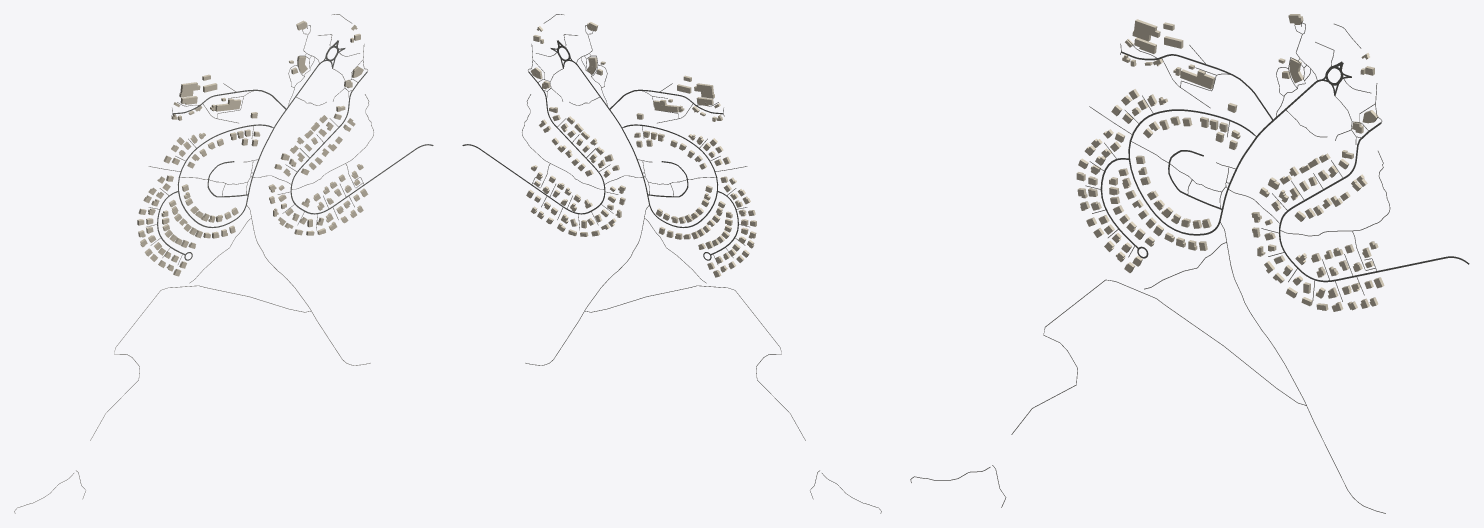
Rendered from historic-palestine-10_33_3521_3275.glb.
The picture shows the model from 3 angles, left to right: view 1: azimuth 30°, elevation 25°; view 2: azimuth 150°, elevation 25°; view 3: azimuth 330°, elevation 25°; orthographic projection. The views are drawn at different scales.
Parts seen in each view (by area): view 1: Road .055, Road; view 2: Road .055, Road; view 3: Road .055, Road.
Part boxes in pixels (bbox=[...]): Road .055: bbox=[177, 124, 274, 227]; Road: bbox=[290, 97, 433, 214]; Road .055: bbox=[621, 124, 718, 227]; Road: bbox=[462, 97, 605, 214]; Road .055: bbox=[1128, 109, 1256, 235]; Road: bbox=[1279, 145, 1469, 282].
Bounding box in the file's own units: 1164 × 1125 × 8.7.
